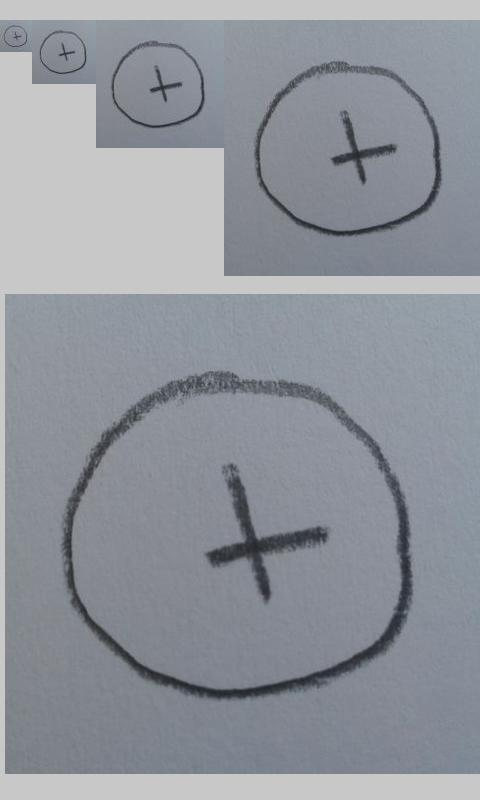button: (60, 369, 416, 700), (254, 61, 441, 236), (111, 40, 205, 129), (39, 30, 87, 74), (3, 25, 28, 48)
